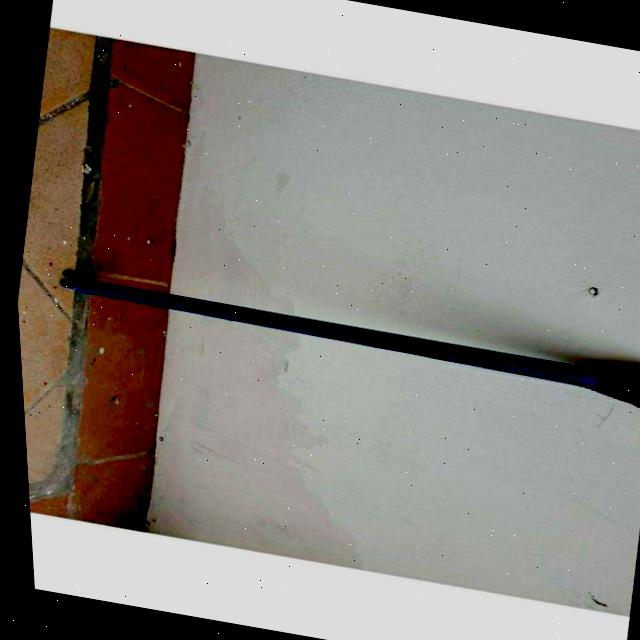crow bar: (53, 265, 640, 408)
